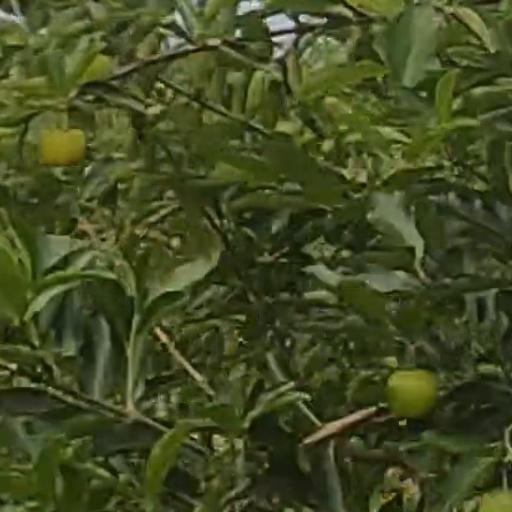acerola_verde: (384, 366, 439, 420), (39, 130, 89, 167)
